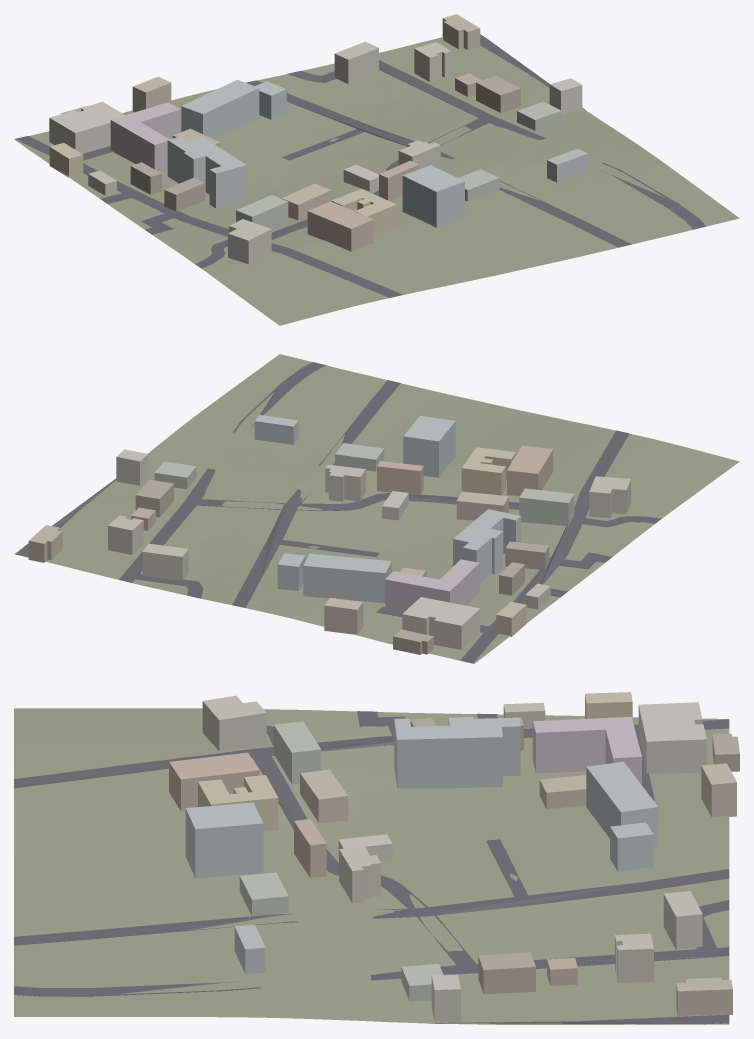
File: chunk_10_9.glb
The picture shows the model from 3 angles, top to bottom: view 1: azimuth 30°, elevation 25°; view 2: azimuth 150°, elevation 25°; view 3: azimuth 270°, elevation 25°; orthographic projection. The views are drawn at different scales.
Visible parts, largest first — view 1: geometry_30, geometry_16, geometry_15, geometry_6, geometry_12, geometry_31, geometry_28, geometry_33, geometry_32, geometry_21, geometry_22, geometry_1 (+21 smaller); view 2: geometry_30, geometry_6, geometry_15, geometry_16, geometry_28, geometry_31, geometry_32, geometry_12, geometry_33, geometry_1, geometry_21, geometry_8 (+23 smaller); view 3: geometry_30, geometry_16, geometry_32, geometry_15, geometry_12, geometry_28, geometry_6, geometry_33, geometry_31, geometry_22, geometry_21, geometry_34 (+25 smaller).
Part boxes in pixels (x1,y1,x2,y2): geometry_30: (14,34,739,325); geometry_16: (167,136,246,208); geometry_15: (110,102,180,172); geometry_6: (181,79,259,139); geometry_12: (402,165,464,227); geometry_31: (15,136,402,297); geometry_28: (49,102,124,153); geometry_33: (379,60,706,229); geometry_32: (246,80,631,247); geometry_21: (307,201,373,251); geometry_22: (228,219,271,264); geometry_1: (331,188,396,235); geometry_30: (14,354,739,663); geometry_6: (303,553,391,603); geometry_15: (385,559,479,612); geometry_16: (453,509,521,583); geometry_28: (402,597,480,649); geometry_31: (460,430,629,663); geometry_32: (232,380,400,607); geometry_12: (403,415,455,477); geometry_33: (119,362,325,582); geometry_1: (461,447,515,495); geometry_21: (507,445,553,495); geometry_8: (519,488,574,525); geometry_30: (14,708,729,1024); geometry_16: (394,717,520,788); geometry_32: (14,869,729,945); geometry_15: (532,716,641,784); geometry_12: (185,802,263,878); geometry_28: (638,702,706,773); geometry_6: (586,761,658,848); geometry_33: (14,947,729,996); geometry_31: (14,719,729,788); geometry_22: (202,695,266,751); geometry_21: (169,752,259,810); geometry_34: (250,752,475,969).
Bounding box in the file's own units: 250 × 23.36 × 254.
